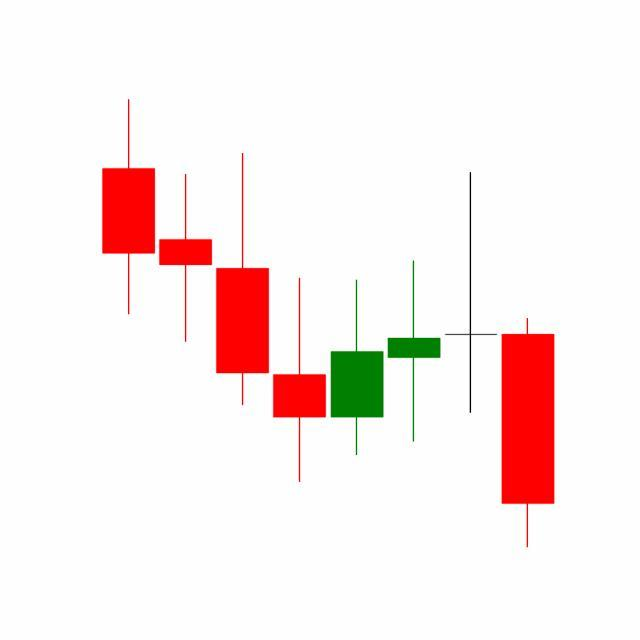Hikkake Pattern: (270, 168, 555, 549)
